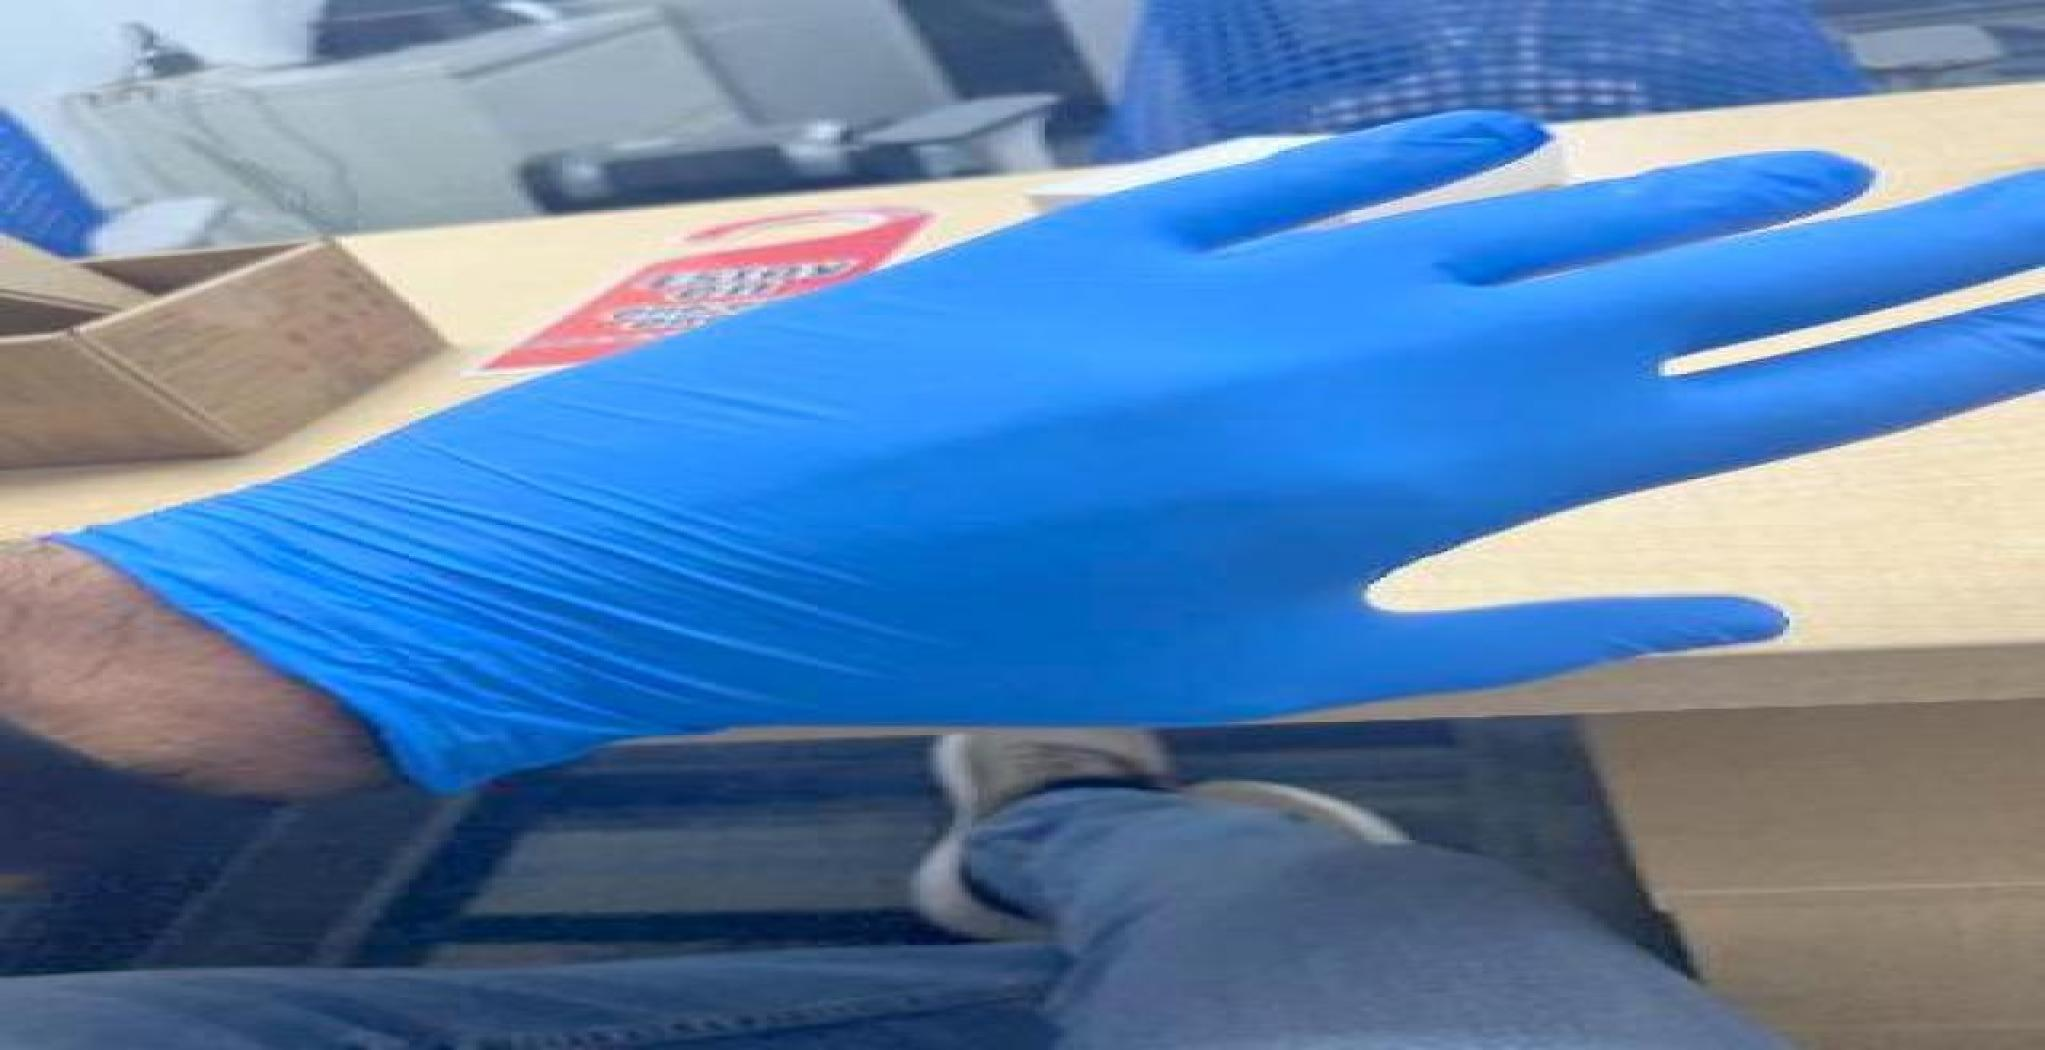gloved: (42, 106, 2038, 796)
